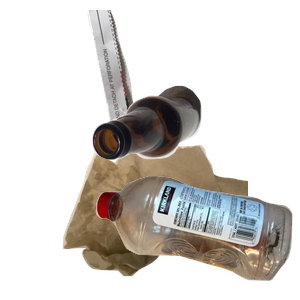glass: (90, 83, 300, 235)
paper: (85, 10, 224, 190)
plastic: (93, 173, 300, 300)
trash: (60, 142, 300, 300)
